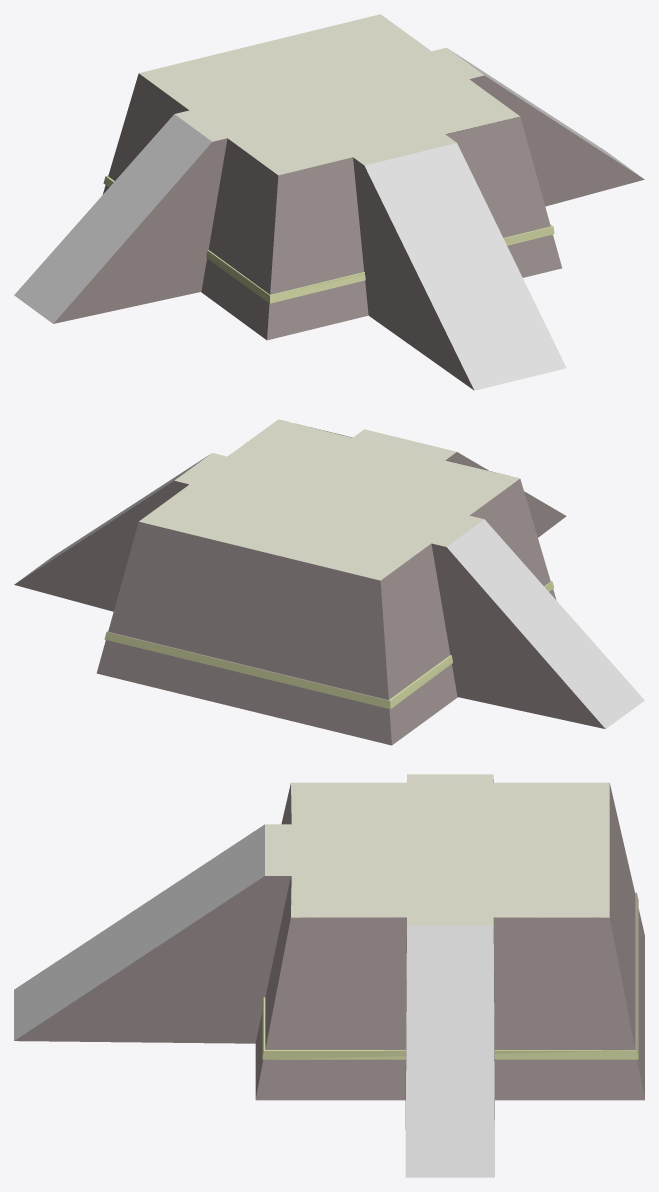
Rendered from kubelet_temple.dae.
3 renders of one model, top to bottom at view 1: azimuth 30°, elevation 25°; view 2: azimuth 150°, elevation 25°; view 3: azimuth 270°, elevation 25°, orthographic. The views are drawn at different scales.
Parts seen in each view (by area): view 1: TemplePlatform; view 2: TemplePlatform; view 3: TemplePlatform.
Boxes of the visible parts, x1,y1,x2,y2 form: TemplePlatform: (14,14,644,390); TemplePlatform: (14,419,644,745); TemplePlatform: (14,774,644,1177).
Size of the model in its own units: 215 by 174 by 51.2.
